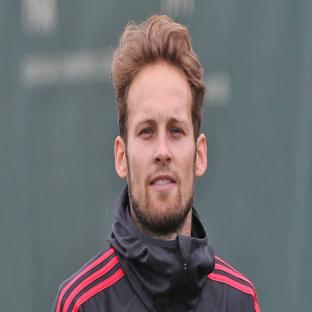Human: (51, 15, 260, 311)
